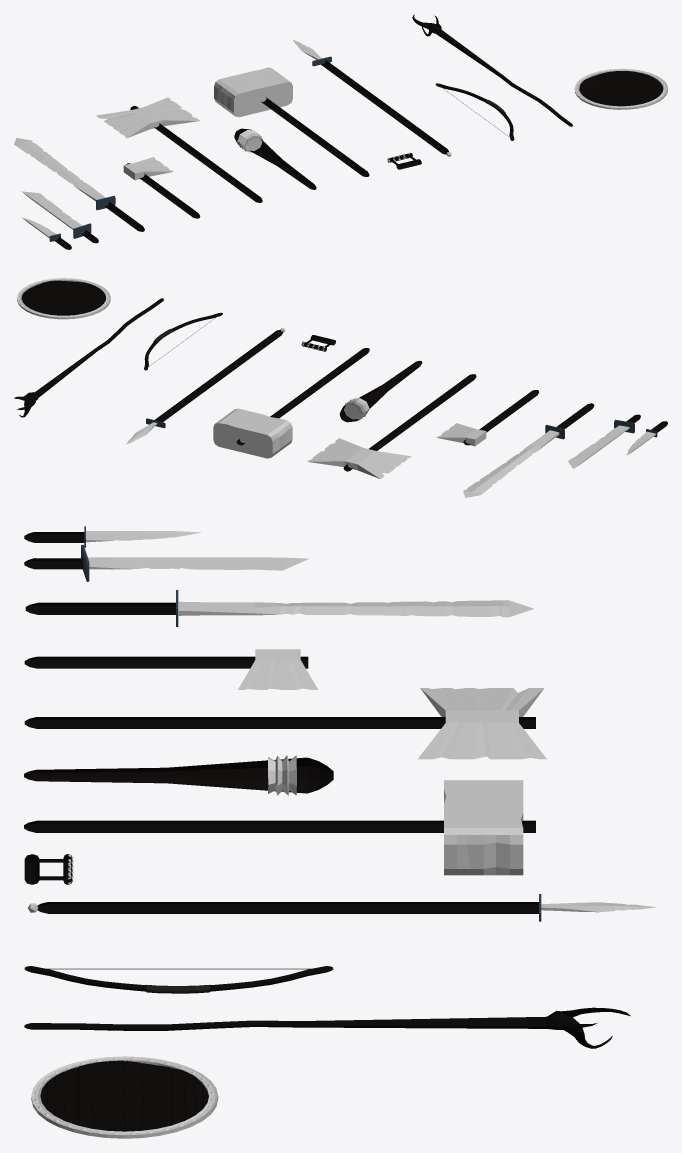
Rendered from rusty weapons pack.obj.
3 views of the same model, one above another, from view 1: azimuth 30°, elevation 25°; view 2: azimuth 150°, elevation 25°; view 3: azimuth 270°, elevation 25° (orthographic). The views are drawn at different scales.
Parts seen in each view (by area): view 1: 2h_mace_Cube.003, shield_Plane.001, 2h_axe_Cube.002, 2h_sword_Plane.007, polearm_Plane.022, 1h_mace_Cylinder.004, 1h_axe_Cube.001, staff_Plane.029, 1h_sword_Plane.004, bow_Plane.023, dagger_Plane; view 2: 2h_mace_Cube.003, shield_Plane.001, 2h_axe_Cube.002, 2h_sword_Plane.007, polearm_Plane.022, 1h_axe_Cube.001, 1h_mace_Cylinder.004, staff_Plane.029, 1h_sword_Plane.004, bow_Plane.023, dagger_Plane; view 3: 2h_mace_Cube.003, 2h_axe_Cube.002, shield_Plane.001, polearm_Plane.022, 2h_sword_Plane.007, 1h_mace_Cylinder.004, staff_Plane.029, 1h_axe_Cube.001, 1h_sword_Plane.004, bow_Plane.023, dagger_Plane, fist_Plane.016.
Part boxes in pixels (x1,y1,x2,y2): 2h_mace_Cube.003: (214,67,369,176); shield_Plane.001: (574,68,667,109); 2h_axe_Cube.002: (96,97,262,202); 2h_sword_Plane.007: (14,138,144,231); polearm_Plane.022: (293,40,451,156); 1h_mace_Cylinder.004: (234,128,316,189); 1h_axe_Cube.001: (123,157,200,218); staff_Plane.029: (412,14,572,126); 1h_sword_Plane.004: (21,191,98,243); bow_Plane.023: (435,83,514,140); dagger_Plane: (22,217,71,249); 2h_mace_Cube.003: (213,348,369,458); shield_Plane.001: (17,278,110,319); 2h_axe_Cube.002: (307,374,476,478); 2h_sword_Plane.007: (463,403,594,497); polearm_Plane.022: (126,327,285,444); 1h_axe_Cube.001: (436,390,538,446); 1h_mace_Cylinder.004: (339,361,422,422); staff_Plane.029: (14,298,163,417); 1h_sword_Plane.004: (568,414,640,468); bow_Plane.023: (144,312,222,370); dagger_Plane: (627,421,667,455); 2h_mace_Cube.003: (24,780,535,875); 2h_axe_Cube.002: (24,688,546,759); shield_Plane.001: (31,1056,218,1138); polearm_Plane.022: (28,894,656,921); 2h_sword_Plane.007: (25,590,533,626); 1h_mace_Cylinder.004: (24,755,333,795); staff_Plane.029: (24,1007,630,1048); 1h_axe_Cube.001: (24,649,317,689); 1h_sword_Plane.004: (24,544,308,581); bow_Plane.023: (24,966,333,993); dagger_Plane: (24,526,201,547); fist_Plane.016: (24,854,73,884).
Size of the model in its own units: 15.37 by 0.5777 by 6.79.
